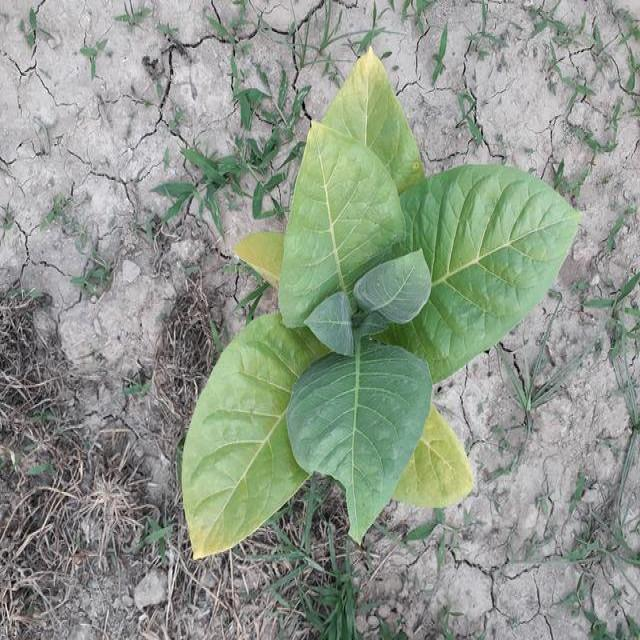crop: (174, 52, 576, 558)
